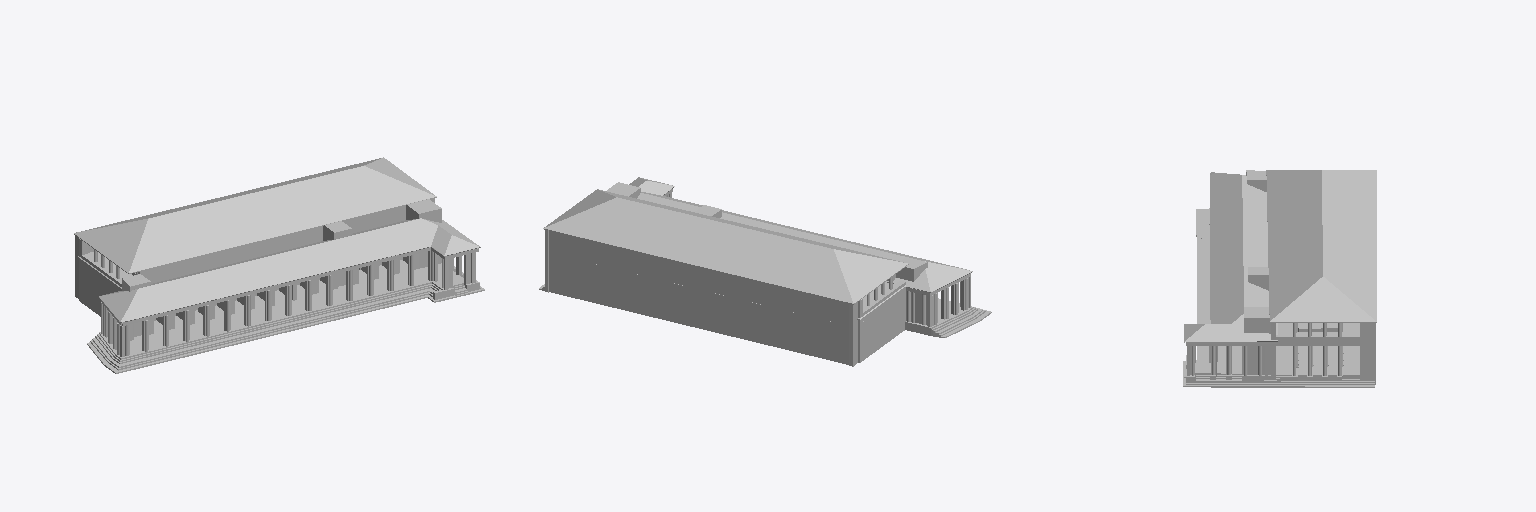
The model's file is basilika.obj.
3 views of the same model, side by side, from view 1: azimuth 30°, elevation 25°; view 2: azimuth 150°, elevation 25°; view 3: azimuth 270°, elevation 25° (orthographic).
Visible parts, largest first — view 1: default_~tmp-mesh; view 2: default_~tmp-mesh; view 3: default_~tmp-mesh.
Boxes of the visible parts, x1=… form: default_~tmp-mesh: x1=74, y1=157, x2=484, y2=373; default_~tmp-mesh: x1=539, y1=177, x2=991, y2=366; default_~tmp-mesh: x1=1183, y1=170, x2=1376, y2=387.
Size of the model in its own units: 111 by 25.25 by 51.29.